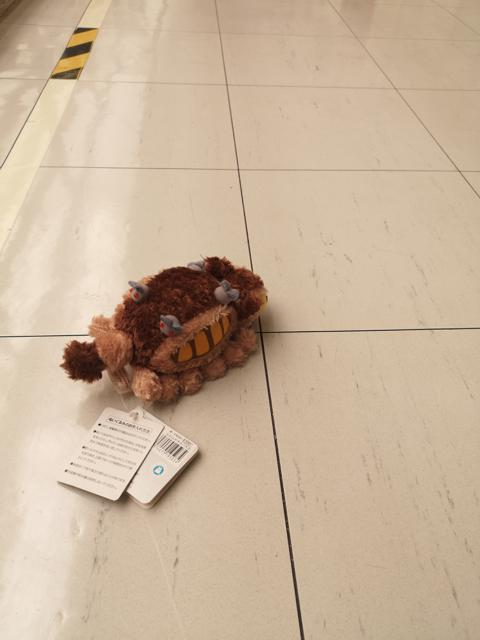nekobus: (57, 250, 276, 411)
